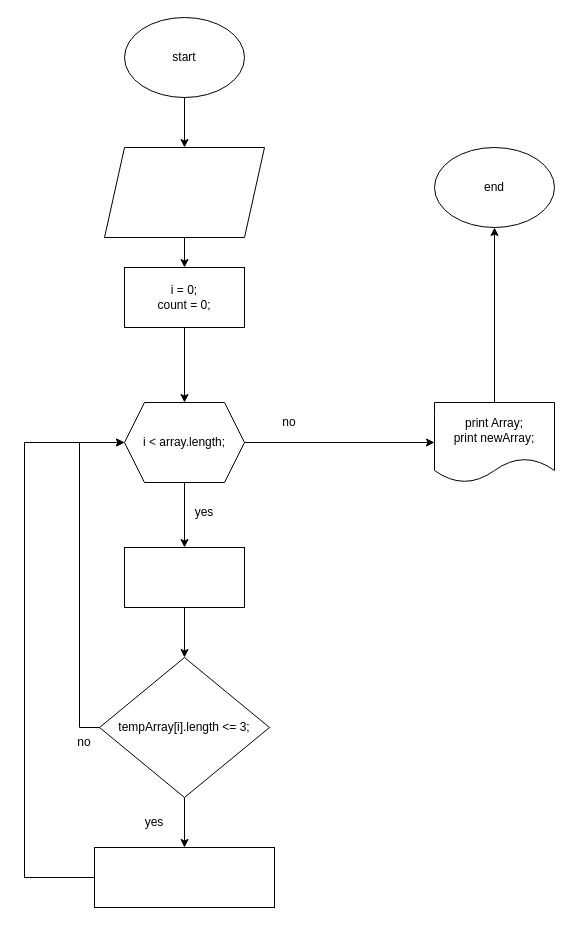
This 572x925 diagram has some shape labels left out. Here are the shapes that lost their labels. From the top down, the box of each, then its label:
(104, 146, 264, 238): createArray;
(124, 546, 244, 608): i ++;
(94, 846, 274, 908): newArray[count] = tempArray[i]; count ++;
